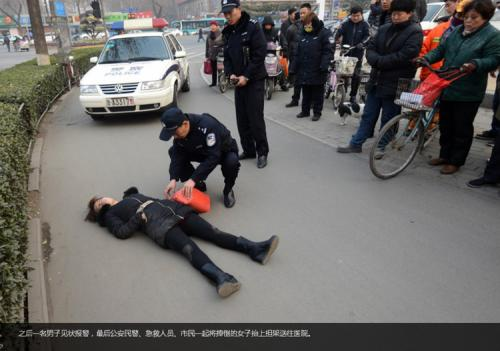10+: (1, 1, 500, 300)
down: (82, 185, 281, 300)
